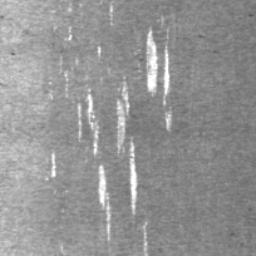White rust: (147, 30, 157, 92), (129, 142, 137, 214), (163, 47, 170, 95), (98, 166, 106, 205), (117, 101, 126, 131), (51, 152, 56, 177), (87, 94, 93, 113), (165, 114, 171, 130)
